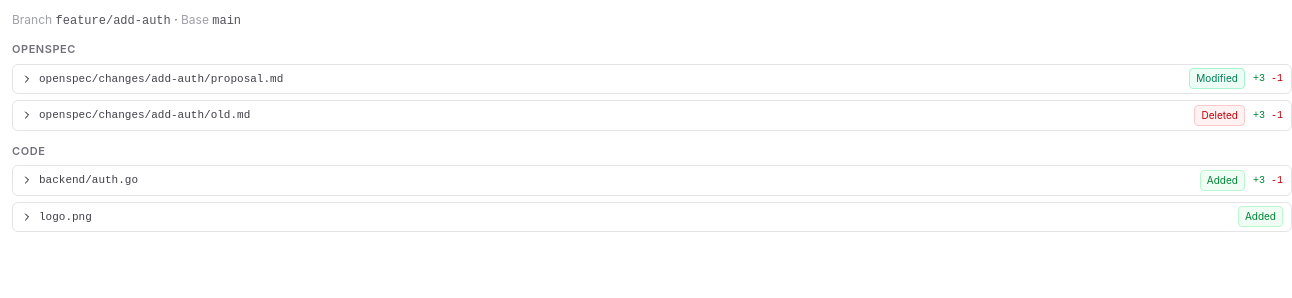
Scenario: ReviewTab › shows a message for a binary file
The image size is (1292, 298).
Step 1. Click the button "logo.png" → (65, 216), box [13,202,1230,231]
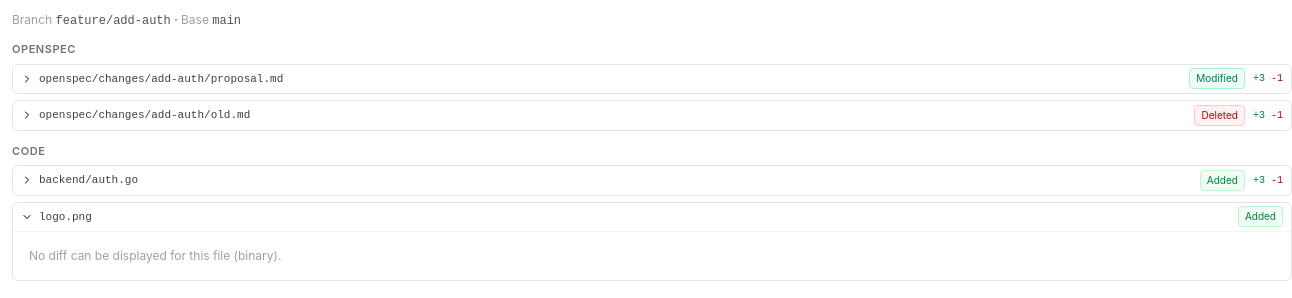
Result: the text "No diff can be displayed for this file (binary)." is shown at [29,248,281,263]
